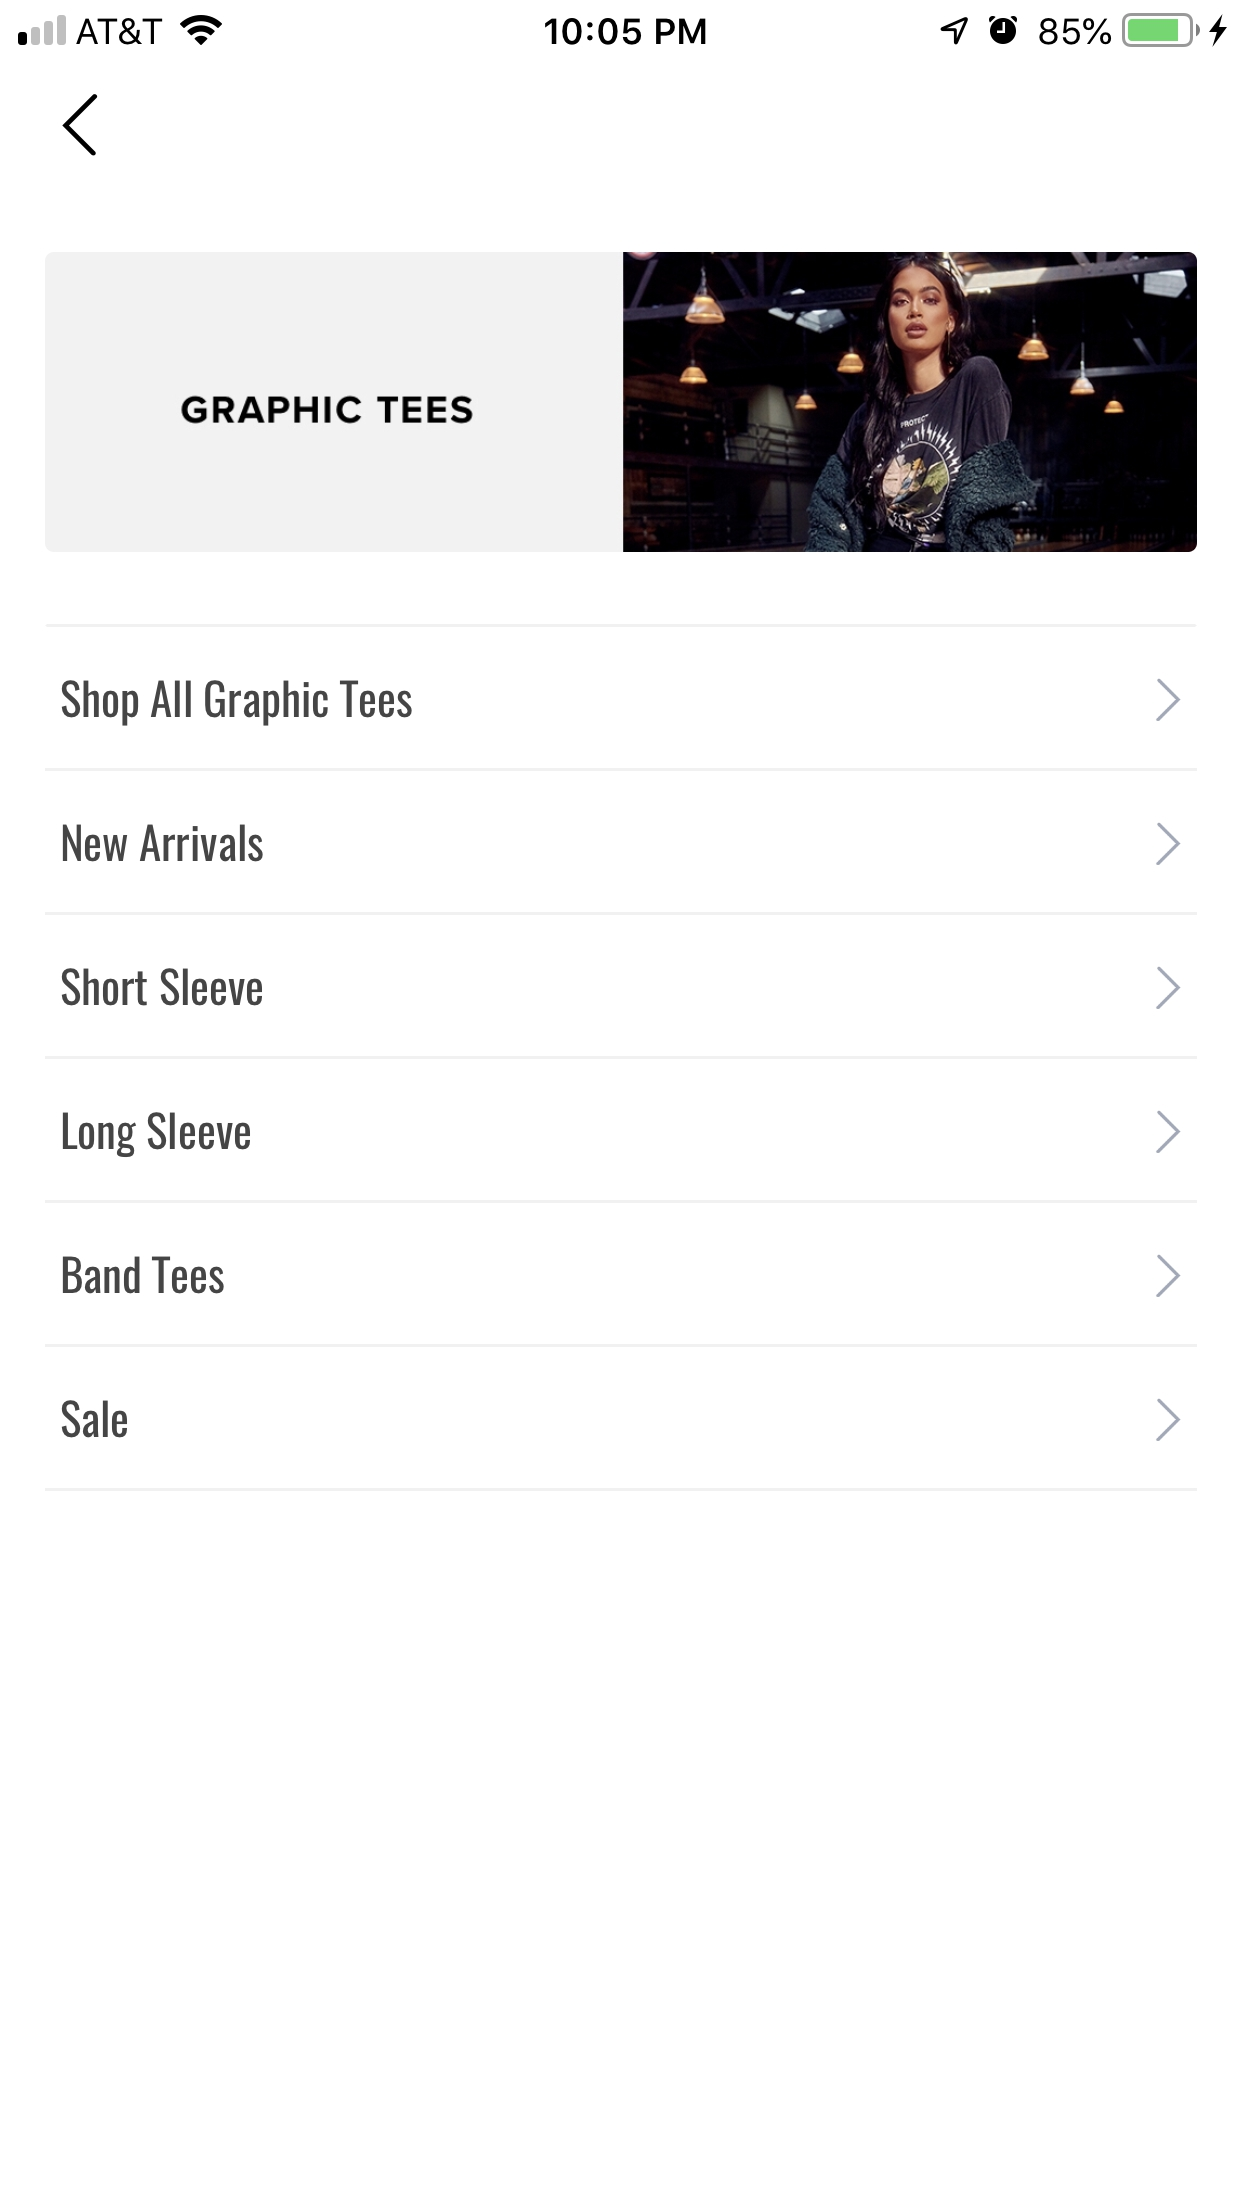Icon: (62, 94, 99, 158), (1156, 1398, 1181, 1442), (1156, 1254, 1181, 1298), (1156, 966, 1181, 1010), (1156, 823, 1181, 866), (1156, 679, 1181, 722), (1156, 1112, 1180, 1154)
Image: (623, 252, 1198, 554)
Text: (62, 679, 414, 726), (180, 394, 475, 425), (64, 1112, 252, 1159), (62, 968, 264, 1007), (62, 823, 264, 863), (62, 1256, 224, 1295), (62, 1400, 129, 1439)
UpperTaskBar: (2, 2, 1242, 49)
